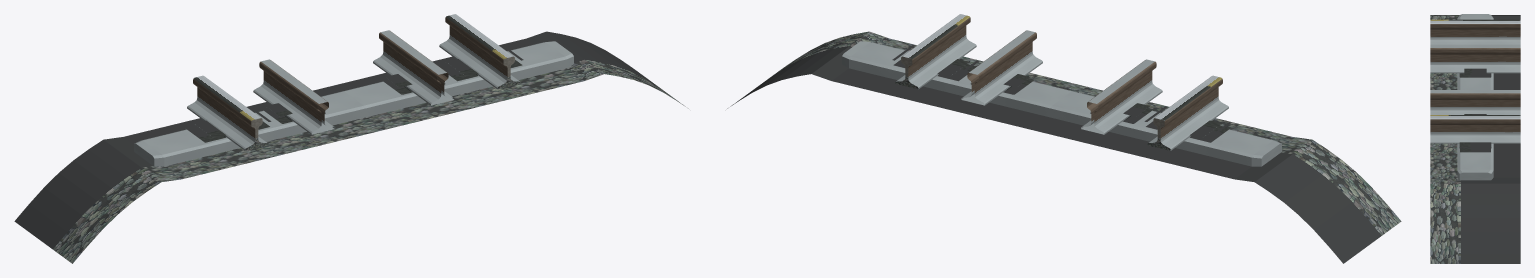
Rendered from center_guard_low.obj.
The picture shows the model from 3 angles, left to right: view 1: azimuth 30°, elevation 25°; view 2: azimuth 150°, elevation 25°; view 3: azimuth 270°, elevation 25°; orthographic projection. The views are drawn at different scales.
Visible parts, largest first — view 1: ballast, sleeper, center_guard_left, center_guard_right, rail_left, rail_right, fastener_left, fastener_right; view 2: ballast, sleeper, center_guard_left, center_guard_right, rail_left, rail_right, fastener_left, fastener_right; view 3: ballast, center_guard_left, rail_right, rail_left, center_guard_right, sleeper, fastener_right, center_fastener_left.
Boxes of the visible parts, x1,y1,x2,y2 form: ballast: (14, 31, 688, 263); sleeper: (134, 41, 573, 166); center_guard_left: (253, 59, 334, 134); center_guard_right: (373, 30, 454, 105); rail_left: (187, 75, 266, 150); rail_right: (439, 14, 519, 88); fastener_left: (184, 106, 271, 142); fastener_right: (436, 45, 523, 81); ballast: (727, 31, 1401, 263); sleeper: (842, 41, 1281, 166); center_guard_left: (1081, 59, 1162, 134); center_guard_right: (961, 30, 1042, 105); rail_left: (1149, 75, 1228, 150); rail_right: (896, 14, 976, 88); fastener_left: (1144, 106, 1231, 142); fastener_right: (892, 45, 979, 81); ballast: (1430, 15, 1520, 263); center_guard_left: (1430, 44, 1520, 73); rail_right: (1430, 115, 1520, 143); rail_left: (1430, 19, 1520, 44); center_guard_right: (1430, 90, 1520, 114); sleeper: (1457, 14, 1493, 180); fastener_right: (1459, 142, 1491, 152); center_fastener_left: (1459, 68, 1491, 77).
Size of the model in its own units: 3.7 by 0.5683 by 0.6.
